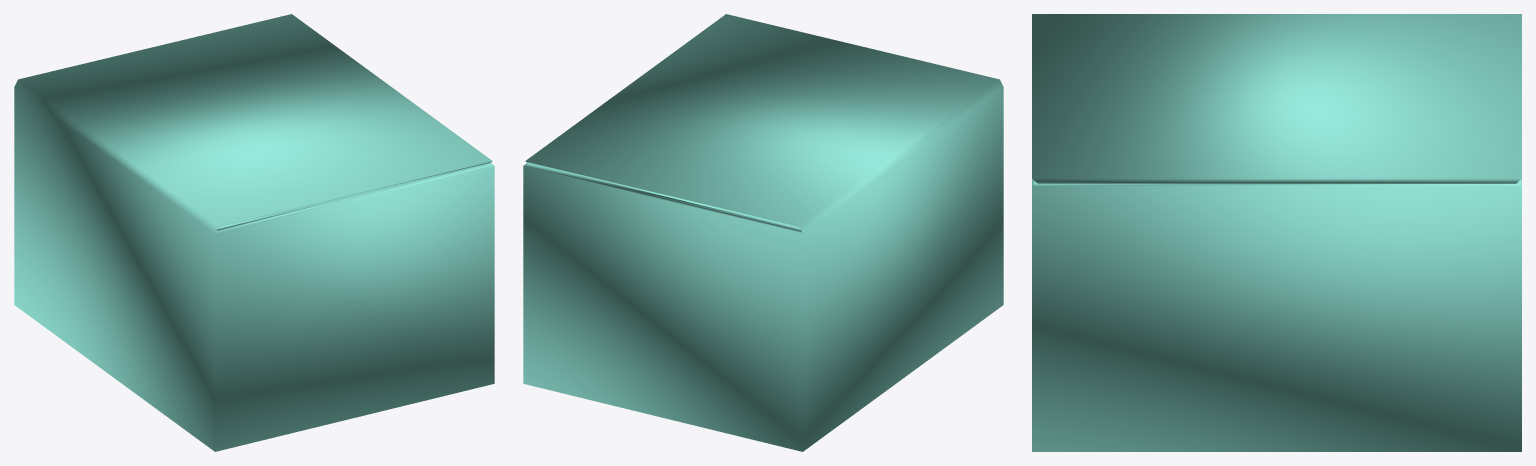
Rendered from veggiesbox.fbx.
3 renders of one model, left to right at view 1: azimuth 30°, elevation 25°; view 2: azimuth 150°, elevation 25°; view 3: azimuth 270°, elevation 25°, orthographic. The views are drawn at different scales.
Visible parts, largest first — view 1: VeggiesBox; view 2: VeggiesBox; view 3: VeggiesBox.
Boxes of the visible parts, x1,y1,x2,y2 form: VeggiesBox: (14,14,494,451); VeggiesBox: (523,14,1003,451); VeggiesBox: (1032,14,1521,451).
Size of the model in its own units: 27.04 by 20.76 by 33.65.
